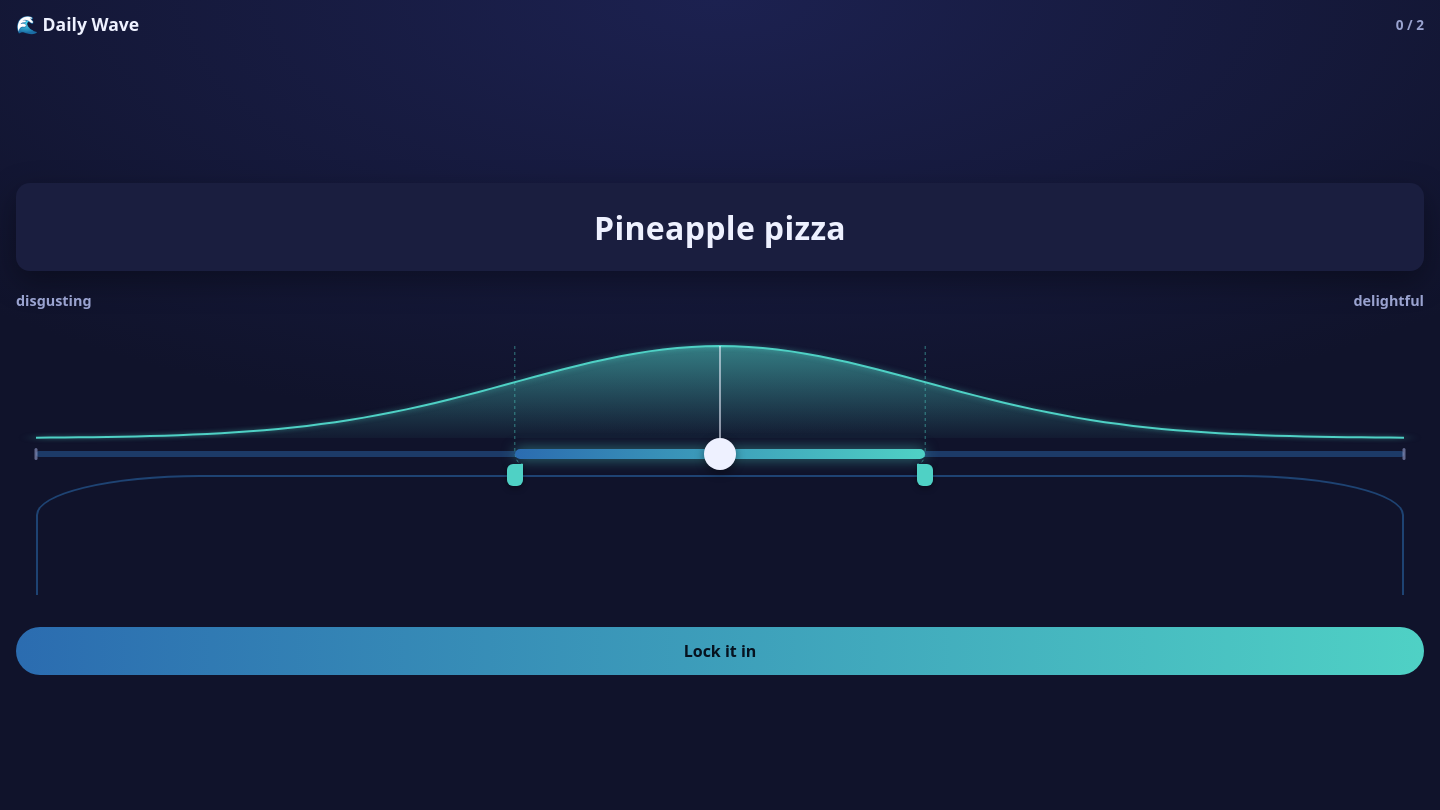
Test: DailyWaveScreen › plays the wave to completion and shows the shareable result
Expected: the heading "Pineapple pizza" is shown, [594,206,846,249]
Click the button "Lock it in" at (720, 651), box [16,627,1424,675]
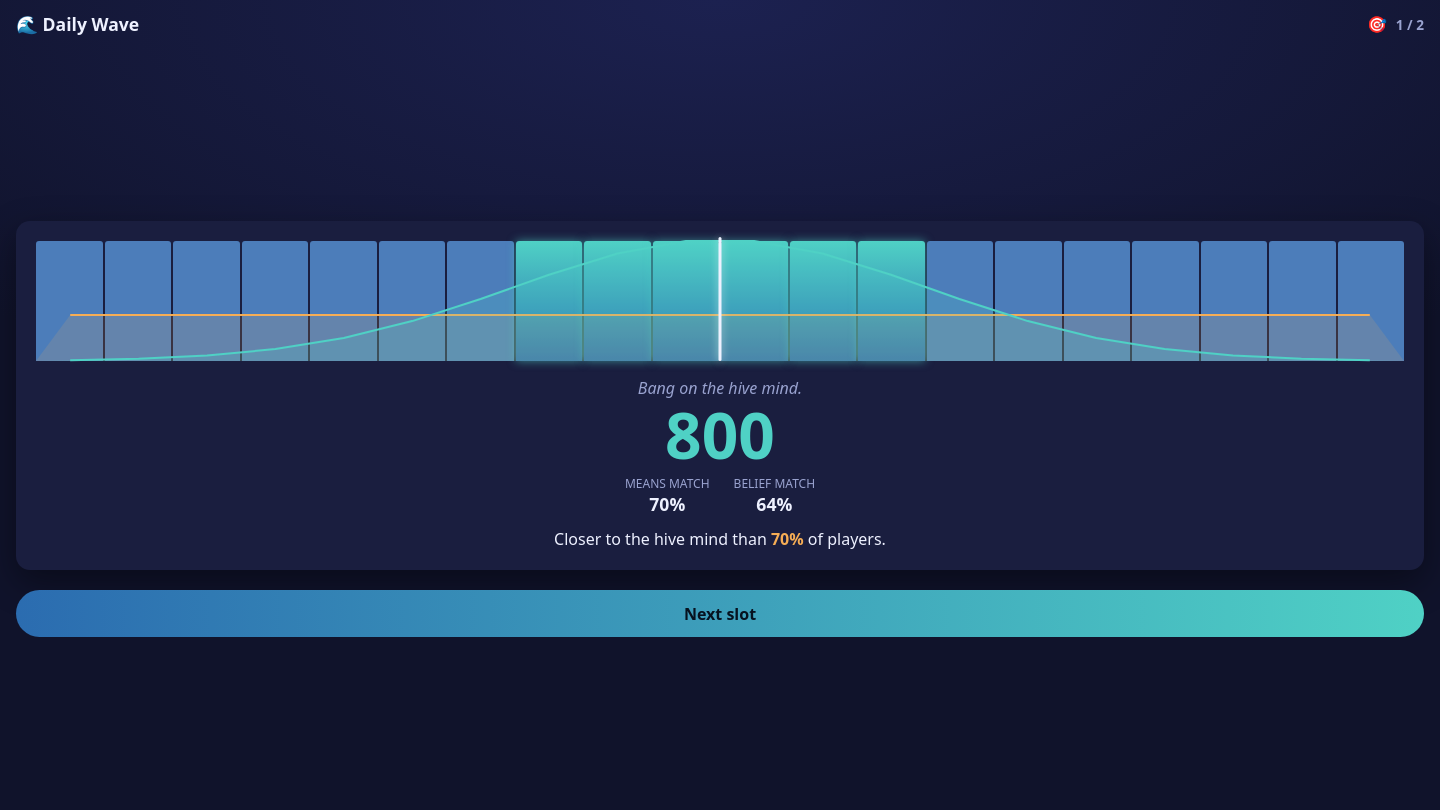
Click the button "Next slot" at (720, 614), box [16,590,1424,637]
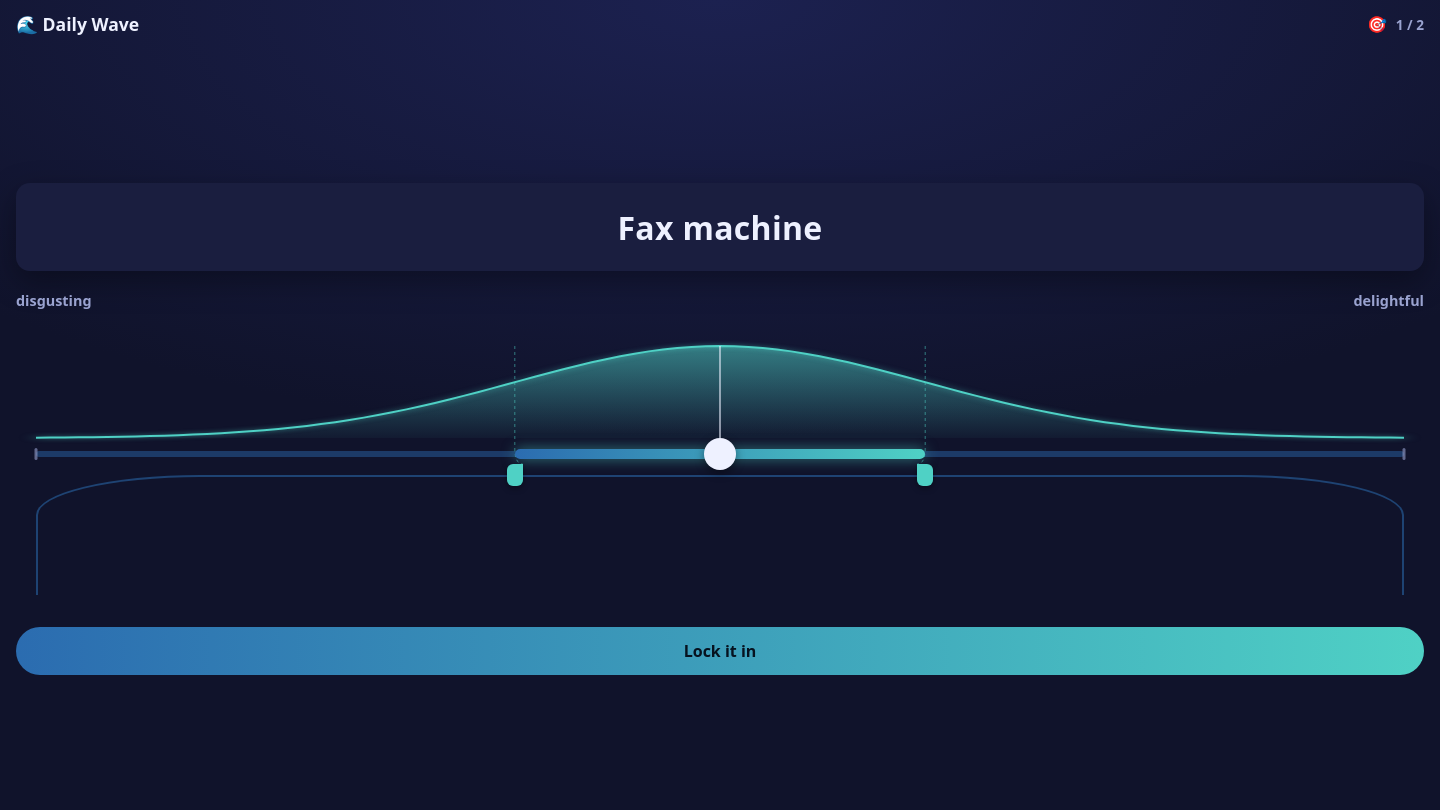
Expected: the element with test id "wave-progress" shows "1 / 2", [1367,13,1424,35]
Expected: the heading "Fax machine" is shown, [617,206,823,249]
Click the button "Lock it in" at (720, 651), box [16,627,1424,675]
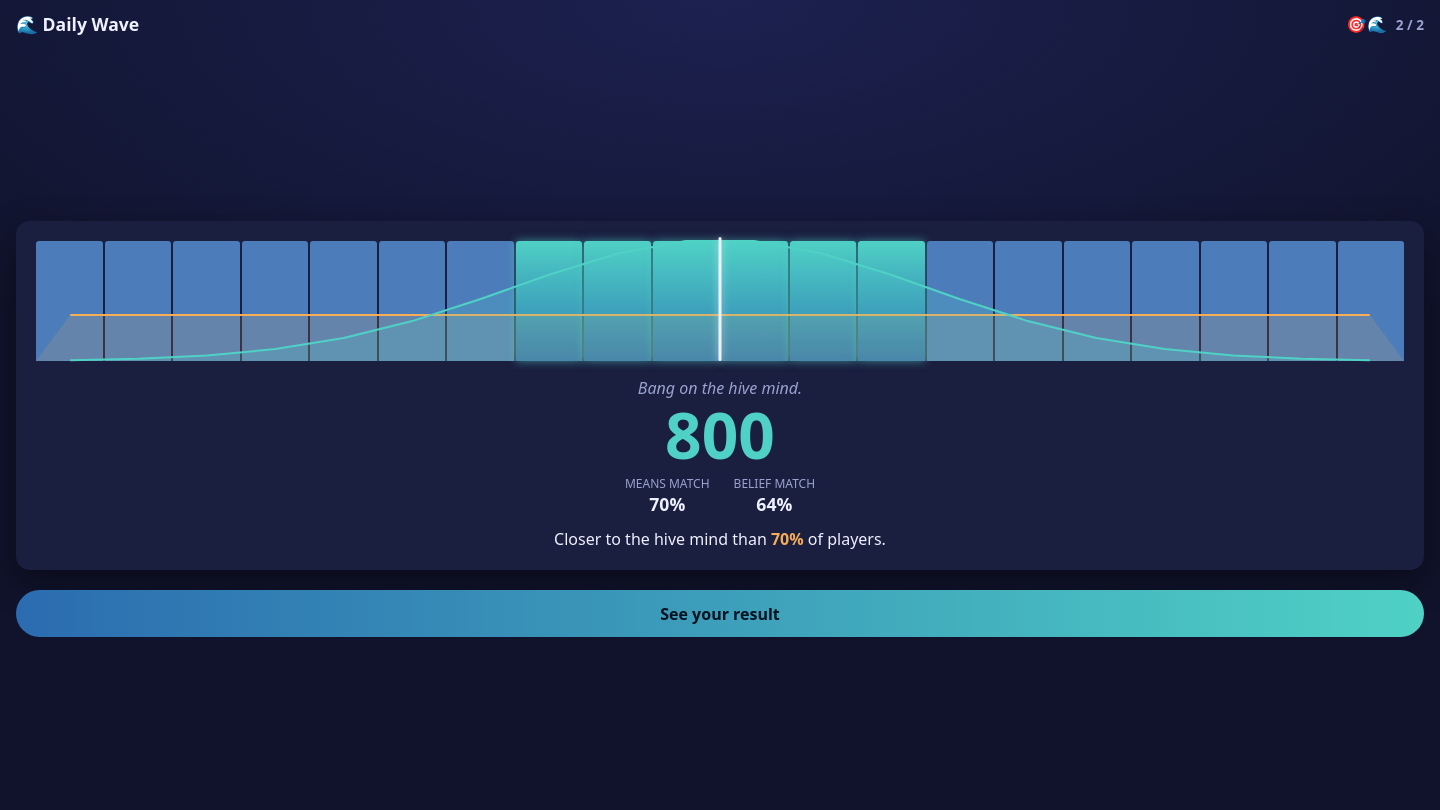
Click the button "See your result" at (720, 614), box [16,590,1424,637]
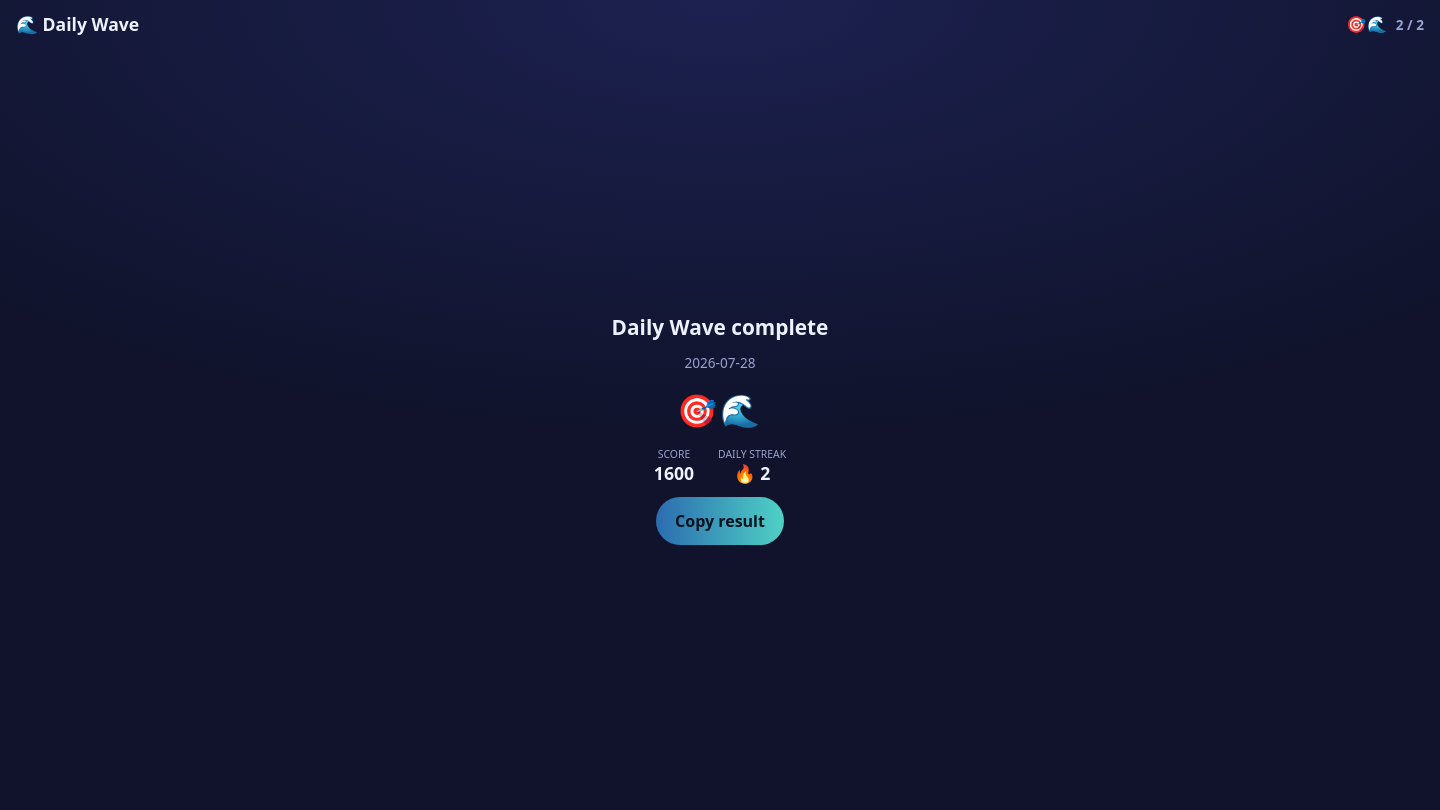
Expected: the text with test id "wave-result-emoji" reads "🎯🌊", [677,388,763,431]
Expected: the text with test id "wave-result-score" reads "1600", [654,461,694,485]
